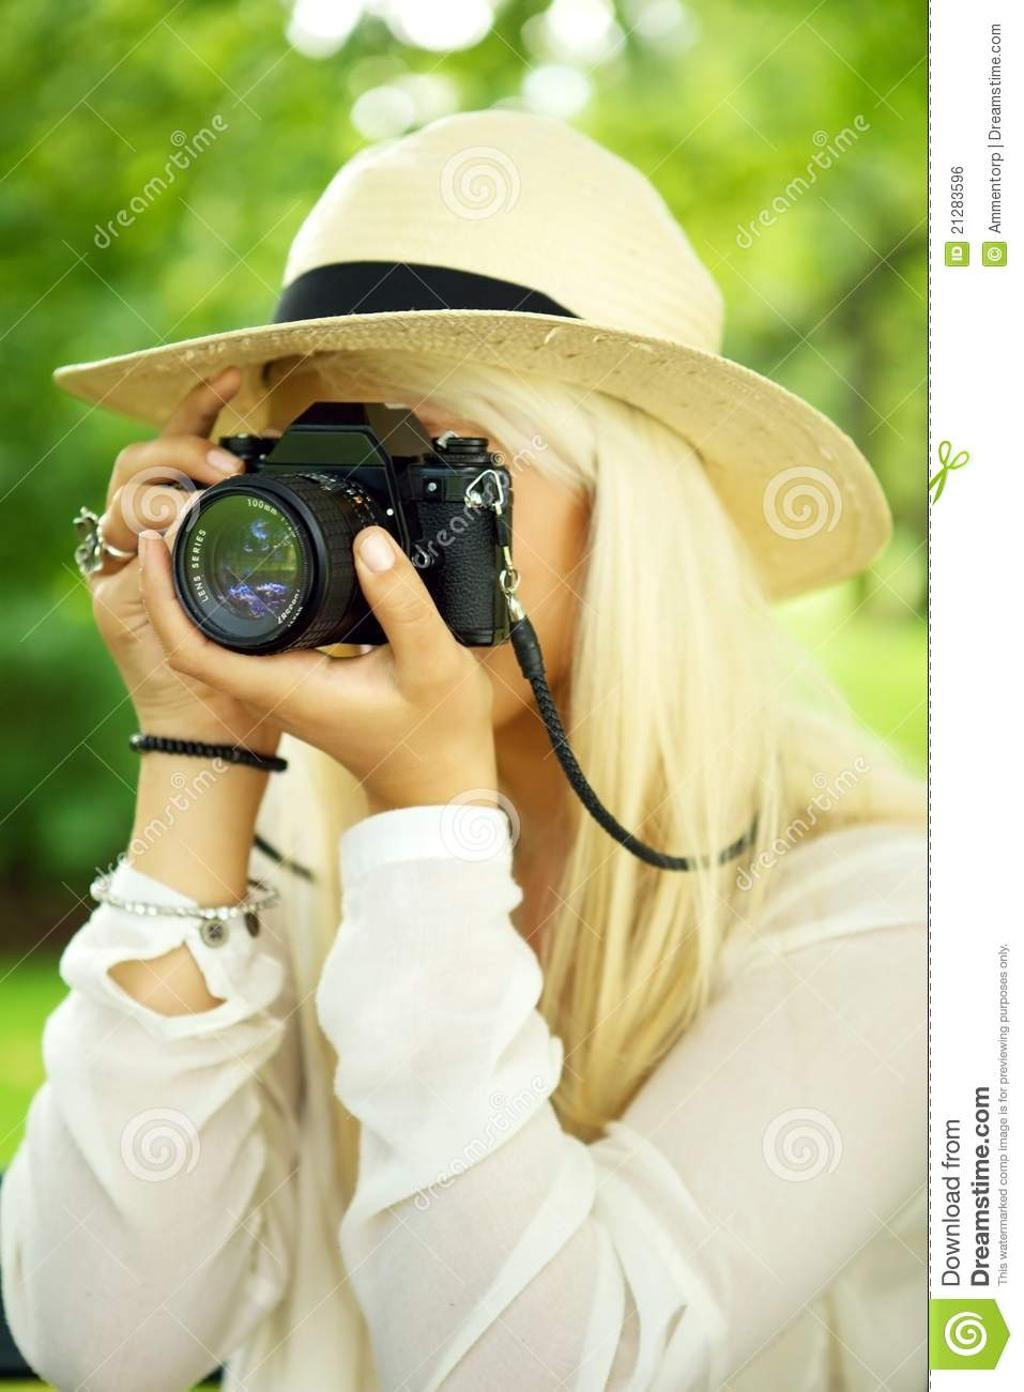face: (266, 342, 543, 736)
